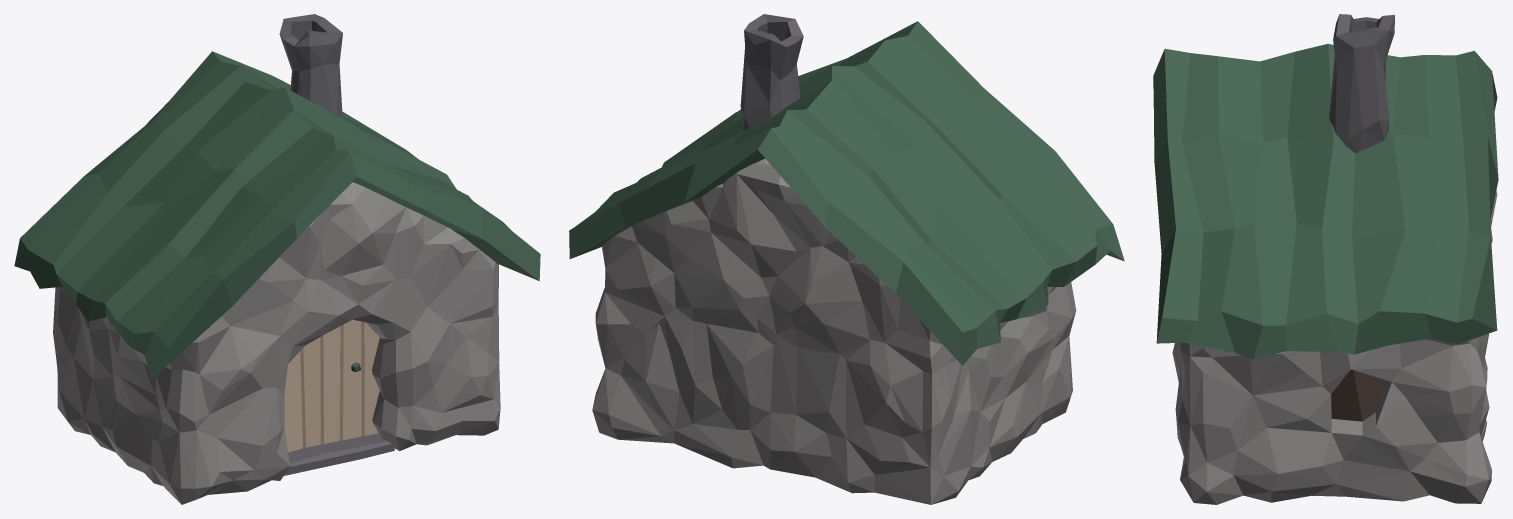
Rendered from stone_house.glb.
3 views of the same model, side by side, from view 1: azimuth 30°, elevation 25°; view 2: azimuth 150°, elevation 25°; view 3: azimuth 270°, elevation 25° (orthographic). The views are drawn at different scales.
Parts seen in each view (by area): view 1: stone_house; view 2: stone_house; view 3: stone_house.
Boxes of the visible parts, x1,y1,x2,y2 form: stone_house: (14, 14, 540, 504); stone_house: (569, 14, 1124, 504); stone_house: (1153, 14, 1498, 504).
Bounding box in the file's own units: 3.32 × 2.99 × 2.2.
1 material, 1 textured.
